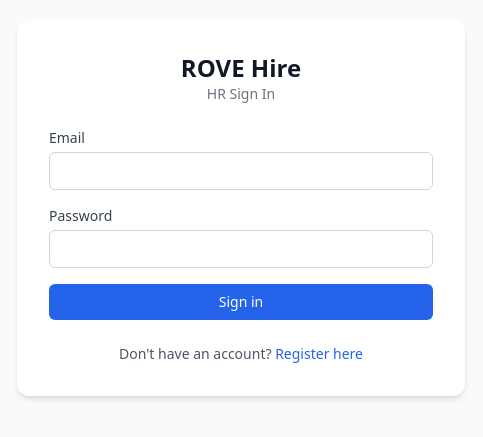
it: Login form › validates required email and password
This screenshot has width=483, height=437.
Click the button "Sign in" at (241, 302), box [49,284,433,320]
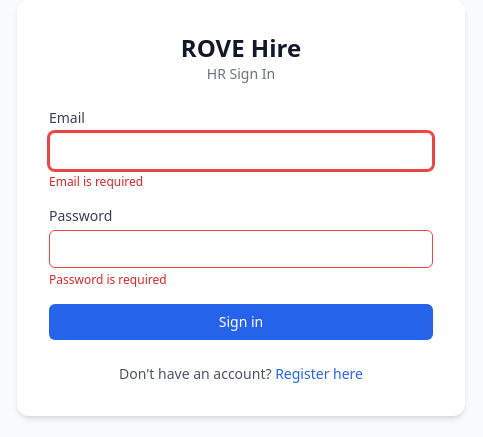
Result: the text "Email is required" is shown at [49,173,143,190]
Result: the text "Password is required" is shown at [49,271,167,288]
